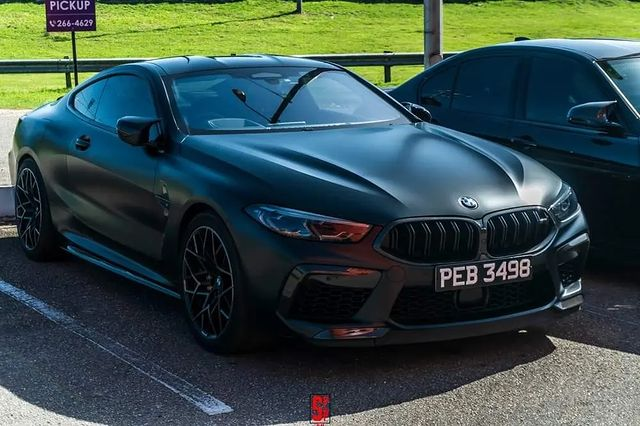License-Plate: (435, 268, 532, 289)
